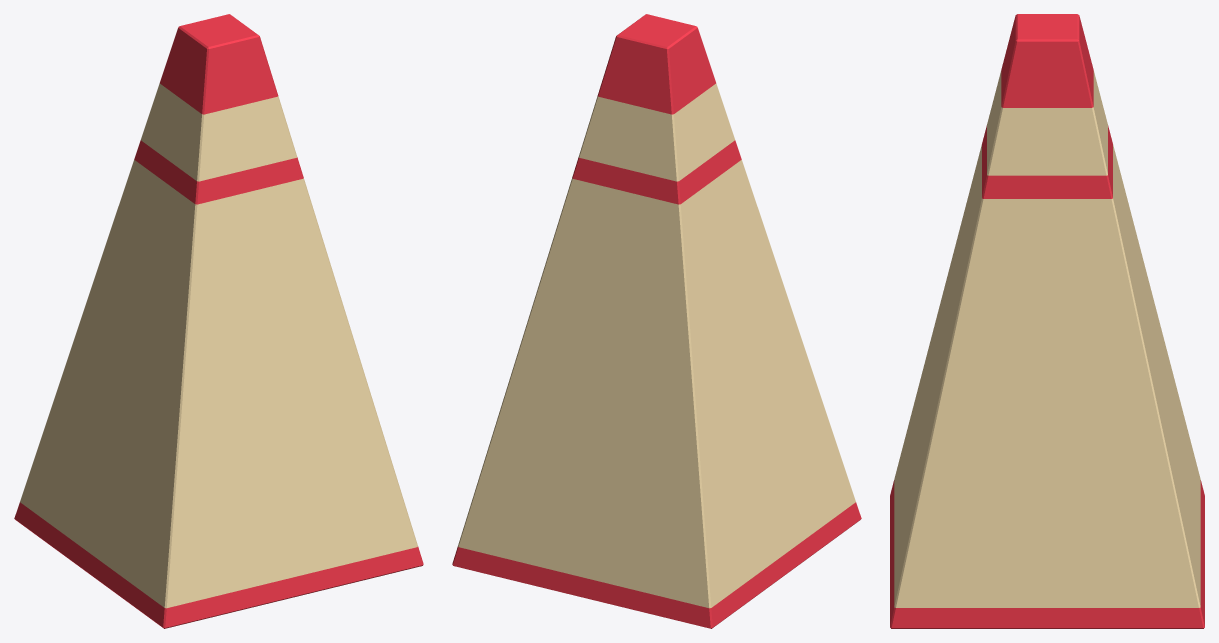
Rendered from Triangle_1.fbx.
3 views of the same model, side by side, from view 1: azimuth 30°, elevation 25°; view 2: azimuth 150°, elevation 25°; view 3: azimuth 270°, elevation 25° (orthographic). The views are drawn at different scales.
Visible parts, largest first — view 1: Triangle_1; view 2: Triangle_1; view 3: Triangle_1.
Boxes of the visible parts, bbox=[...] form: Triangle_1: bbox=[14, 14, 423, 628]; Triangle_1: bbox=[452, 14, 861, 628]; Triangle_1: bbox=[890, 14, 1204, 628].
Bounding box in the file's own units: 200 × 375 × 200.
